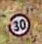limite 30: (8, 11, 30, 37)
